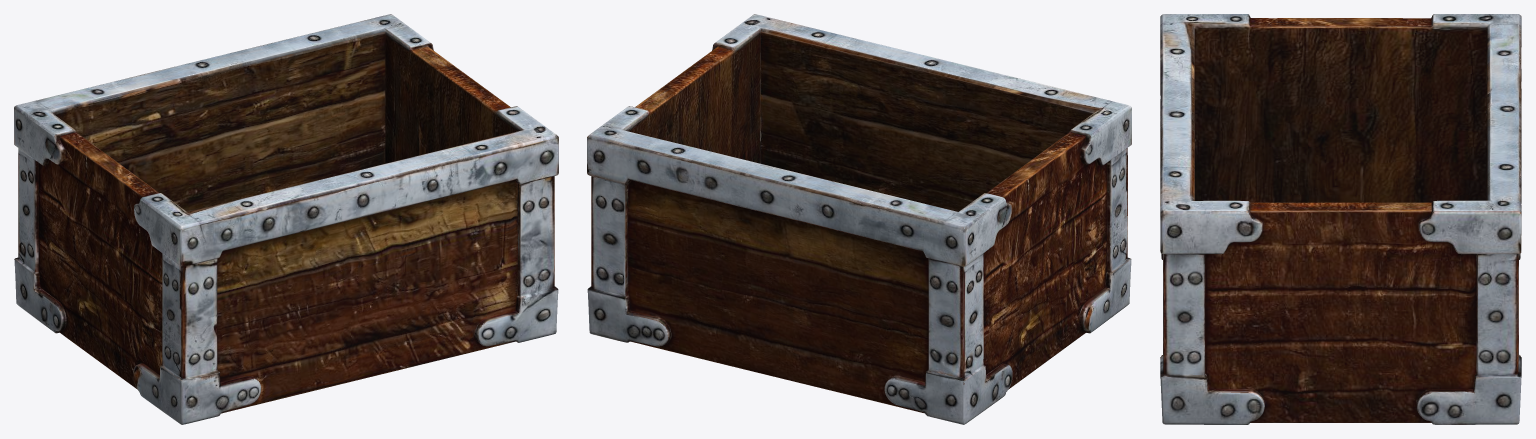
Rendered from chest_body.glb.
3 views of the same model, side by side, from view 1: azimuth 30°, elevation 25°; view 2: azimuth 150°, elevation 25°; view 3: azimuth 270°, elevation 25° (orthographic). The views are drawn at different scales.
Visible parts, largest first — view 1: chest_body; view 2: chest_body; view 3: chest_body.
Part boxes in pixels (left/top/right/bottom): chest_body: left=14, top=14, right=558, bottom=424; chest_body: left=587, top=14, right=1131, bottom=424; chest_body: left=1160, top=14, right=1521, bottom=424.
Size of the model in its own units: 1.99 by 1 by 1.53.
1 material, 1 textured.
